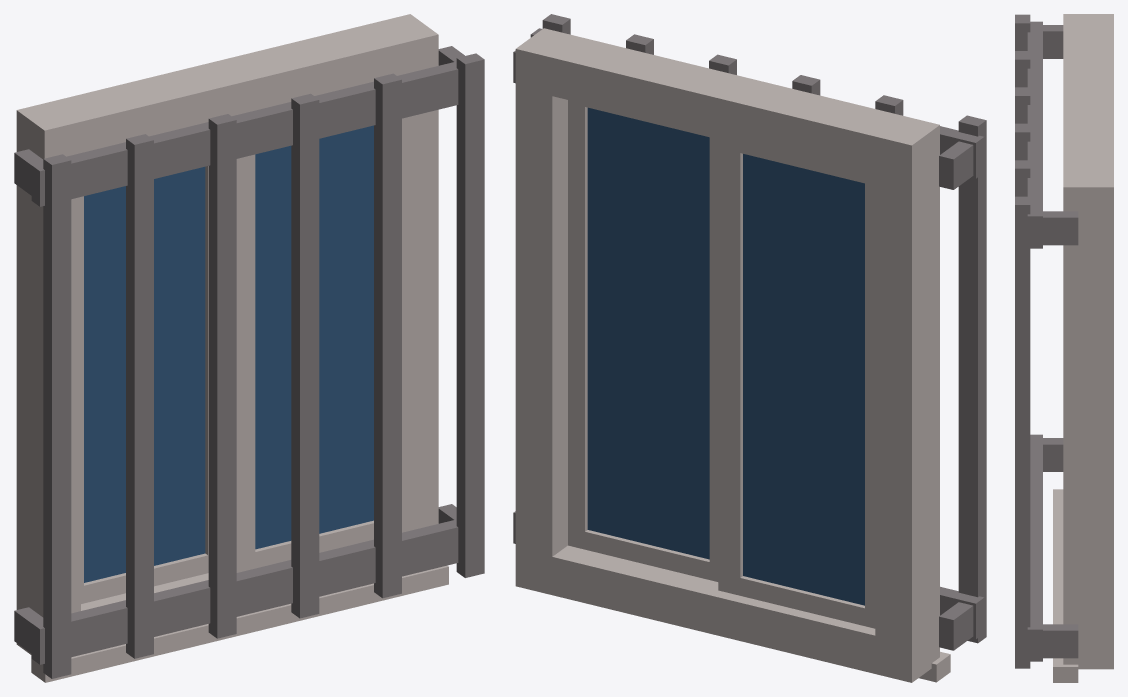
File: SM_Opening_Window06909_Grille_01.gltf
The picture shows the model from 3 angles, left to right: view 1: azimuth 30°, elevation 25°; view 2: azimuth 150°, elevation 25°; view 3: azimuth 270°, elevation 25°; orthographic projection. The views are drawn at different scales.
Visible parts, largest first — view 1: SM_Opening_Window06909_Grille_01; view 2: SM_Opening_Window06909_Grille_01; view 3: SM_Opening_Window06909_Grille_01.
Boxes of the visible parts, x1,y1,x2,y2 form: SM_Opening_Window06909_Grille_01: (14, 14, 484, 682); SM_Opening_Window06909_Grille_01: (513, 14, 986, 682); SM_Opening_Window06909_Grille_01: (1015, 14, 1113, 682).
Size of the model in its own units: 0.91 by 1.07 by 0.195.
1 material, 1 textured.
